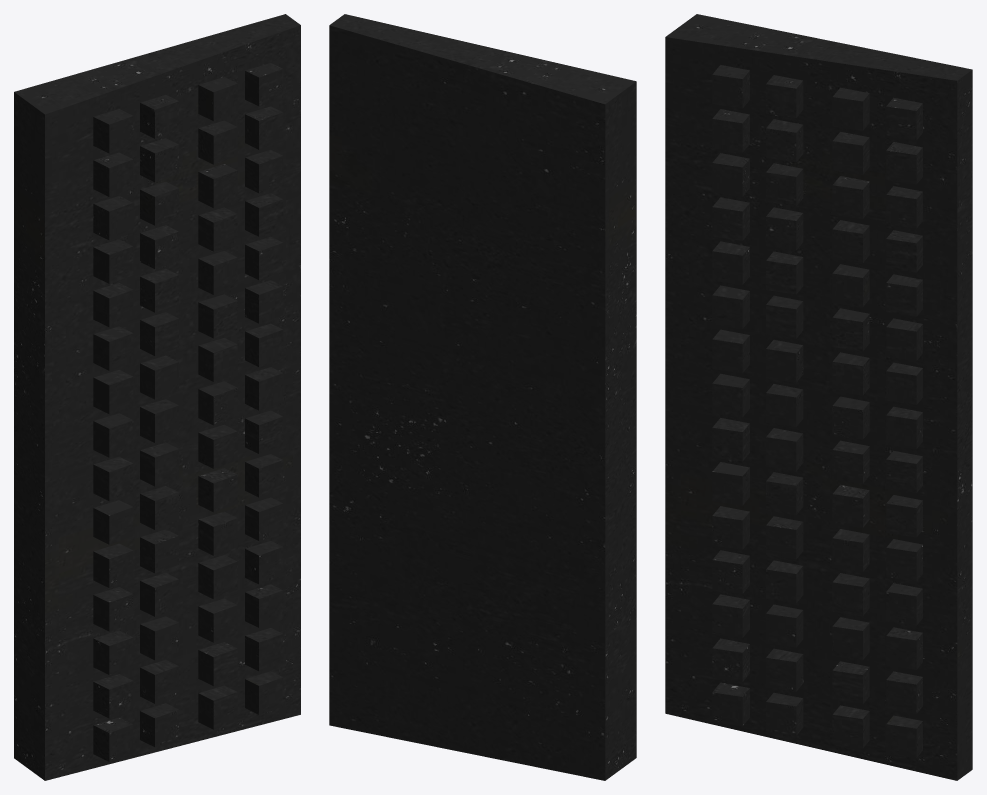
Rendered from Keyboard.fbx.
3 renders of one model, left to right at view 1: azimuth 30°, elevation 25°; view 2: azimuth 150°, elevation 25°; view 3: azimuth 330°, elevation 25°, orthographic.
Visible parts, largest first — view 1: Keyboard; view 2: Keyboard; view 3: Keyboard.
Part boxes in pixels (<box>): Keyboard: <box>14,14,300,780</box>; Keyboard: <box>329,14,636,780</box>; Keyboard: <box>665,14,972,780</box>.
Size of the model in its own units: 24.57 by 59.58 by 6.27.
1 material, 1 textured.
